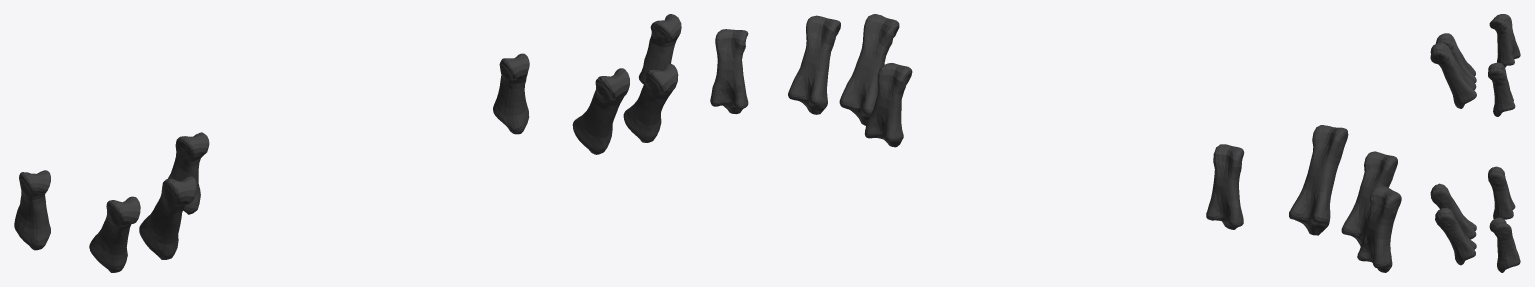
The picture shows the model from 3 angles, left to right: view 1: azimuth 30°, elevation 25°; view 2: azimuth 150°, elevation 25°; view 3: azimuth 270°, elevation 25°; orthographic projection. The views are drawn at different scales.
Visible parts, largest first — view 1: FL_P2_1; view 2: FL_P2_1; view 3: FL_P2_1.
Part boxes in pixels (bbox=[...]): FL_P2_1: bbox=[14, 14, 681, 272]; FL_P2_1: bbox=[710, 14, 1401, 272]; FL_P2_1: bbox=[1430, 14, 1520, 272].
Size of the model in its own units: 0.00462 by 0.000635 by 0.000829.
1 material, 1 textured.
